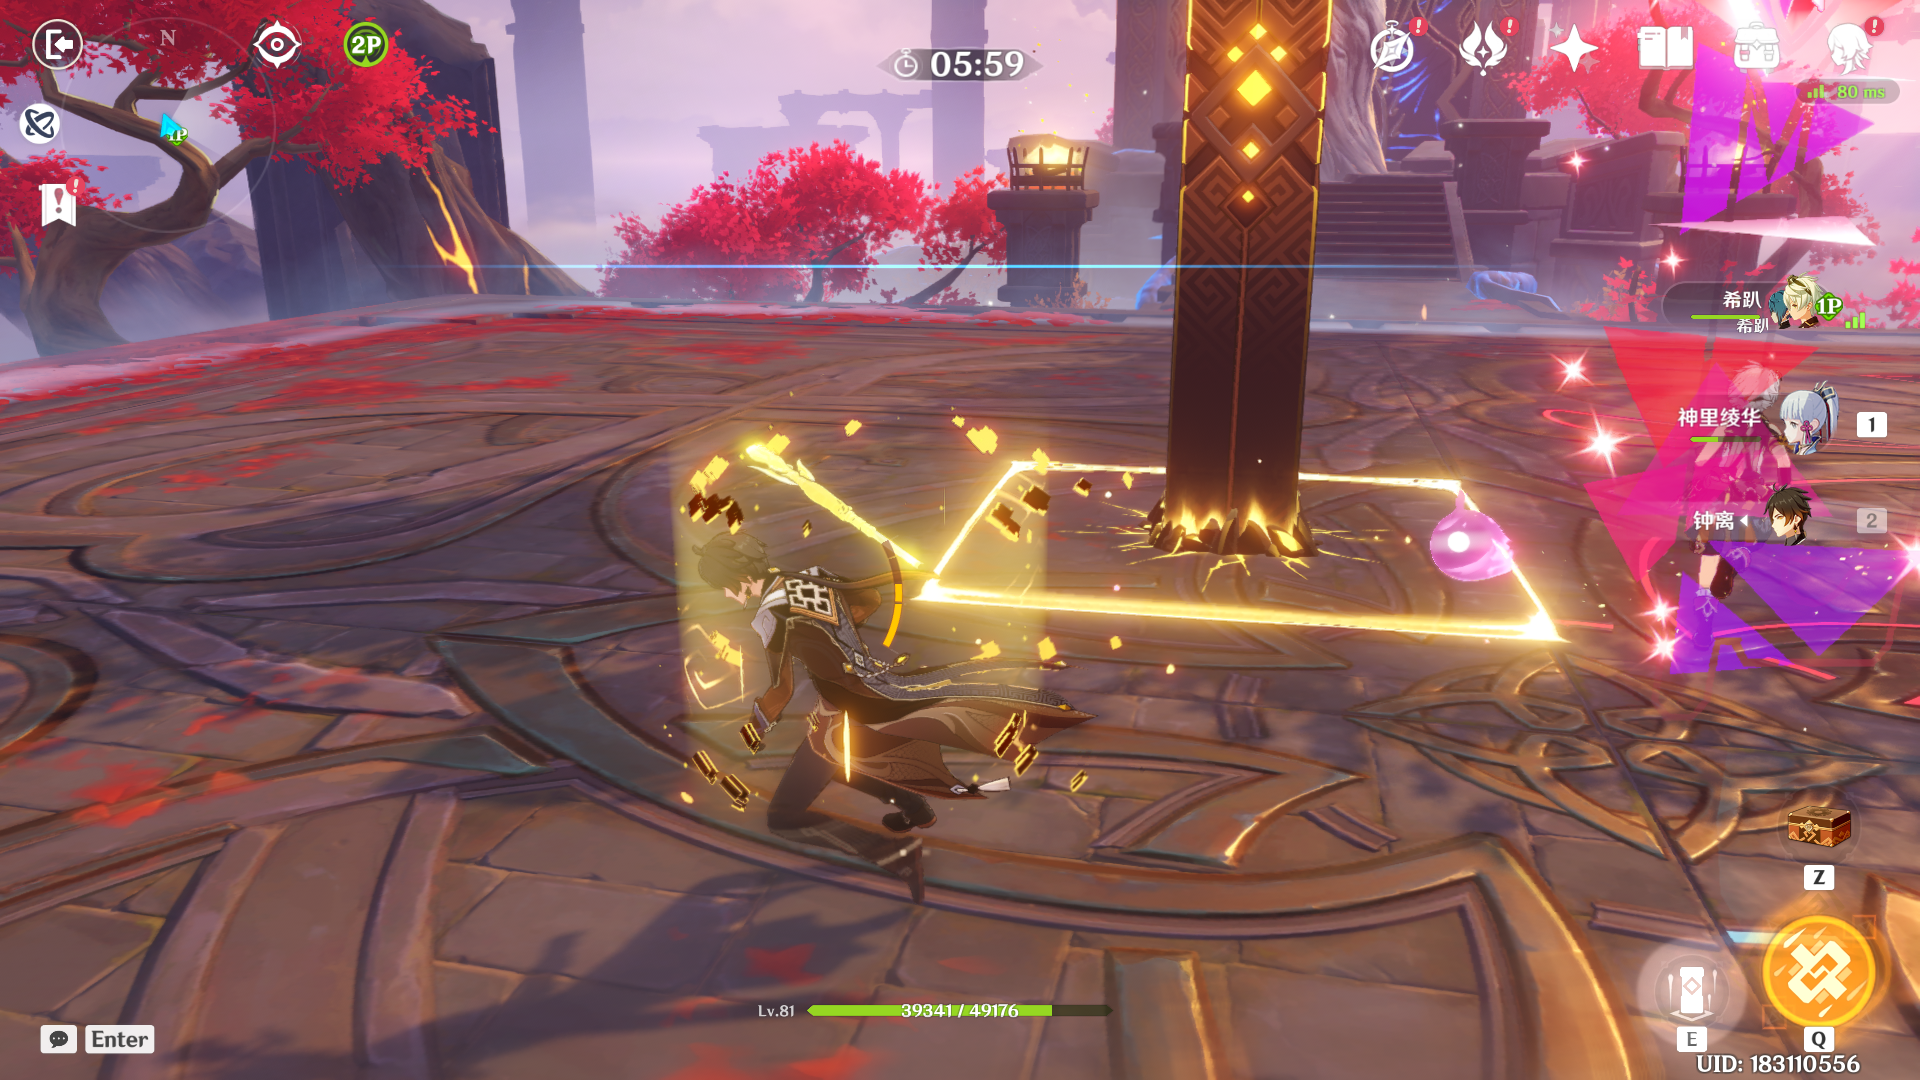character: (669, 488, 1013, 891)
